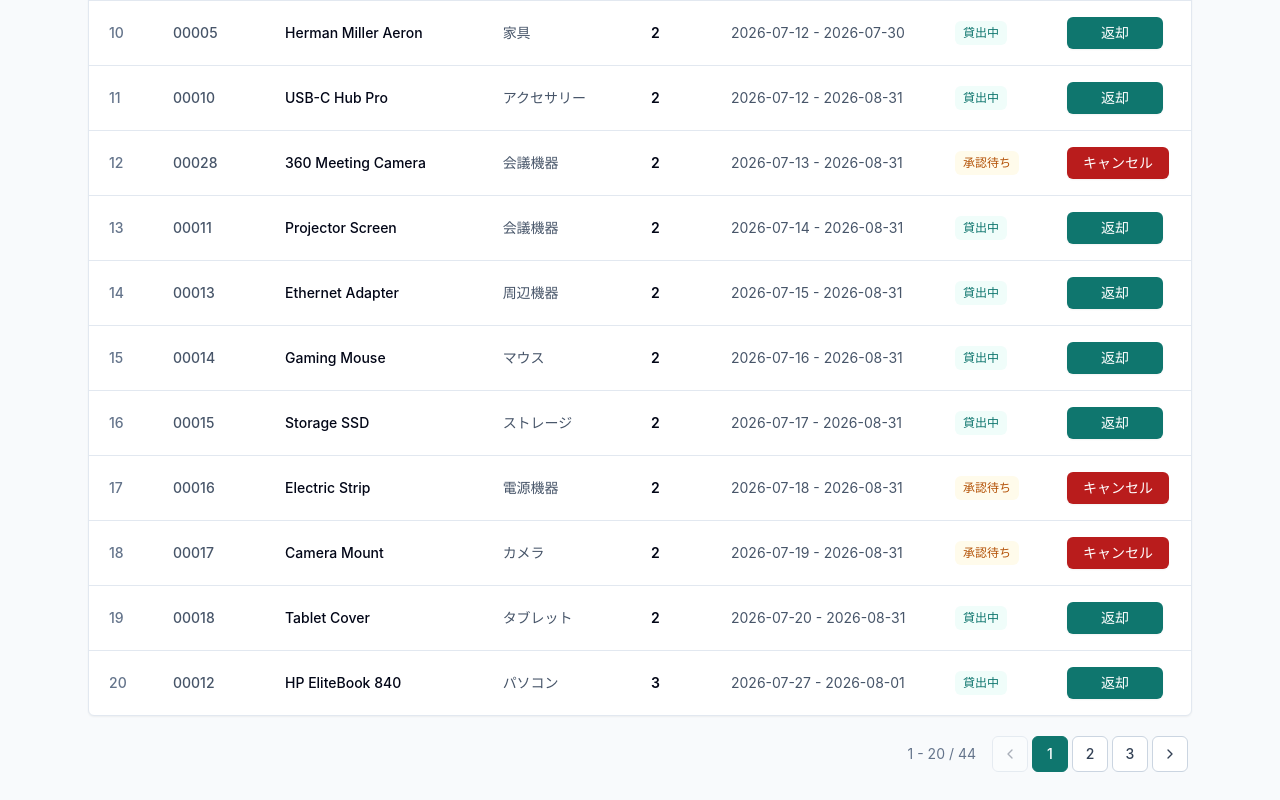
Test: MyLoanRequestPage › 038: ページングの2で21〜40行目を表示する
(page scrolled)
Click the button "2".
click(1090, 754)  # box [1072,736,1108,772]
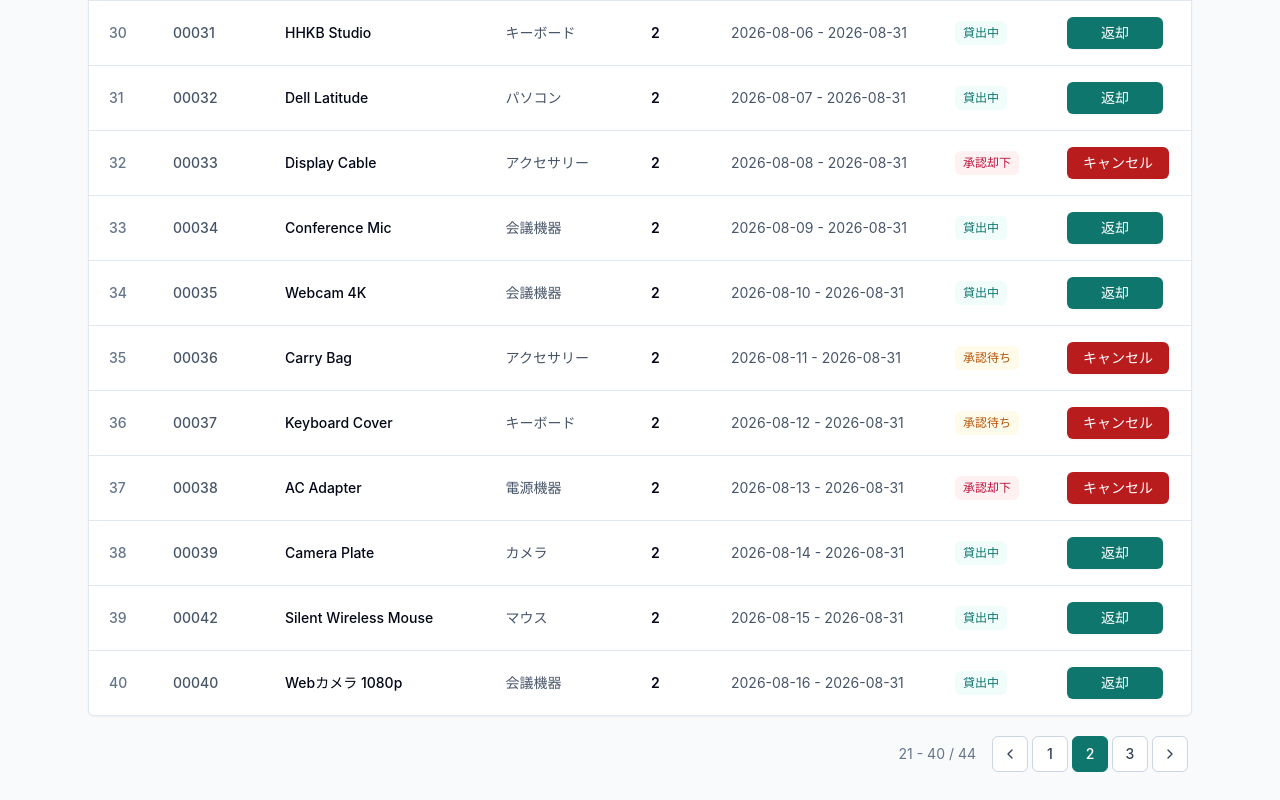
Check: the button named "前のページ" is enabled, box [992,736,1028,772]
Check: the row "40 00040 Webカメラ 1080p 会議機器 2 2026-08-16 - 2026-08-31 貸出中 返却" is shown, box [89,650,1191,715]
Check: the text "21 - 40 / 44" is shown, box [898,744,976,764]
